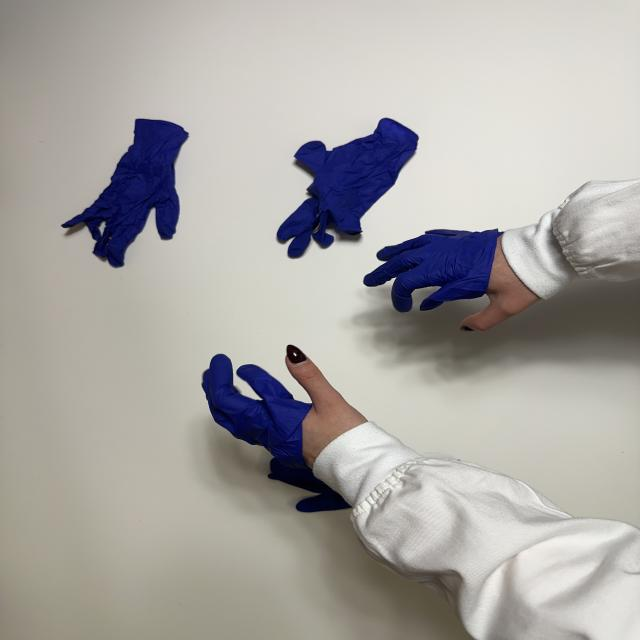glove_partial: (202, 344, 373, 474), (363, 226, 540, 336)
